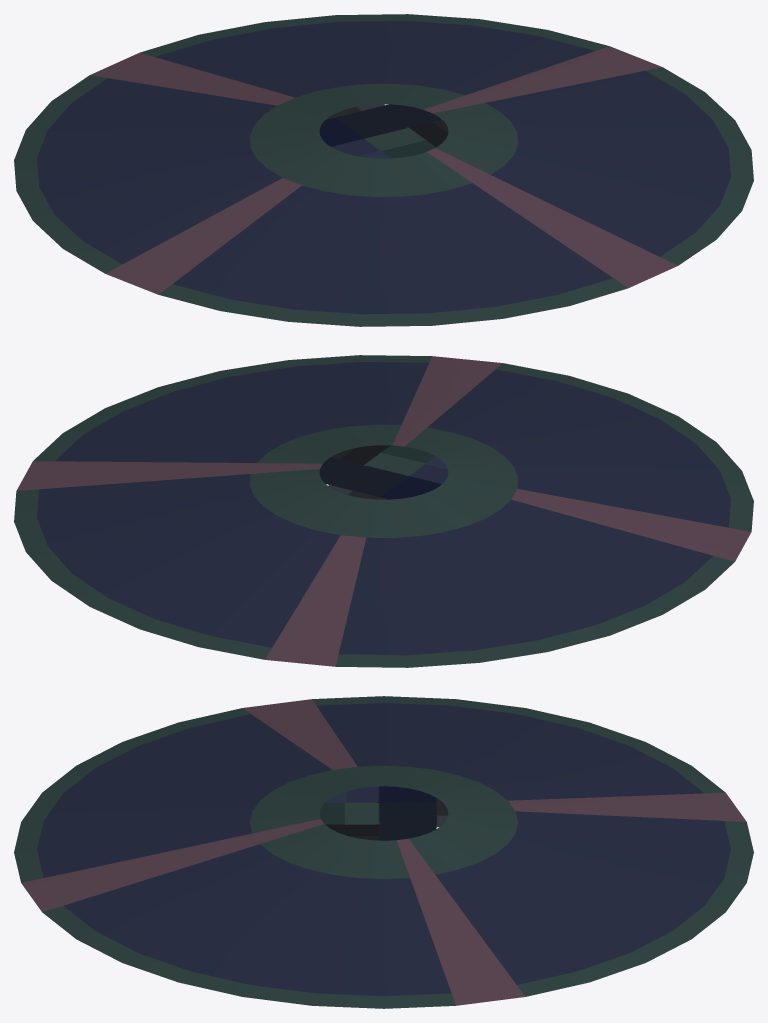
The model's file is alienShipRotate.fbx.
The picture shows the model from 3 angles, top to bottom: view 1: azimuth 30°, elevation 25°; view 2: azimuth 150°, elevation 25°; view 3: azimuth 270°, elevation 25°; orthographic projection.
Parts seen in each view (by area): view 1: Cylinder; view 2: Cylinder; view 3: Cylinder.
Boxes of the visible parts, <box> form: Cylinder: <box>14,14,753,326</box>; Cylinder: <box>14,355,753,667</box>; Cylinder: <box>14,696,753,1008</box>.
Size of the model in its own units: 48.41 by 9.48 by 48.41.
